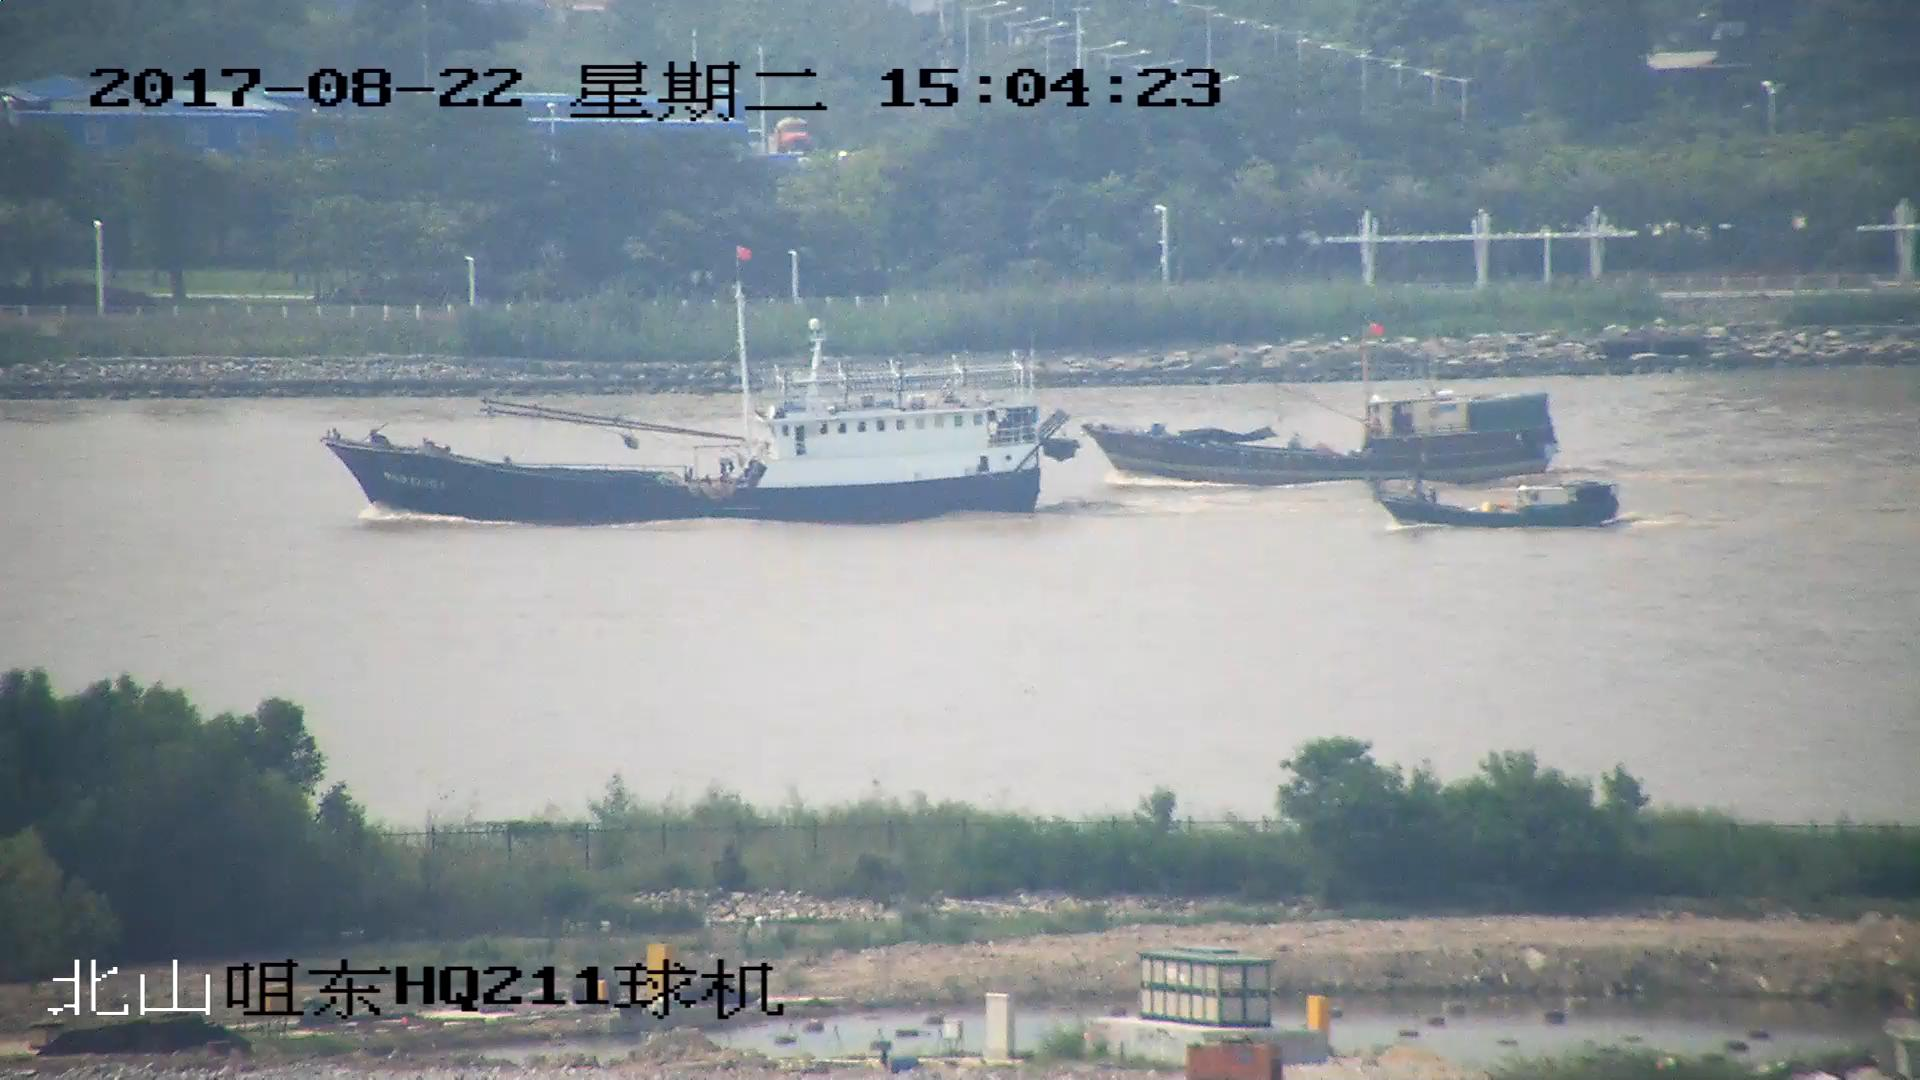fishing boat: (325, 241, 1089, 522), (1087, 329, 1561, 488), (1378, 469, 1616, 531)
